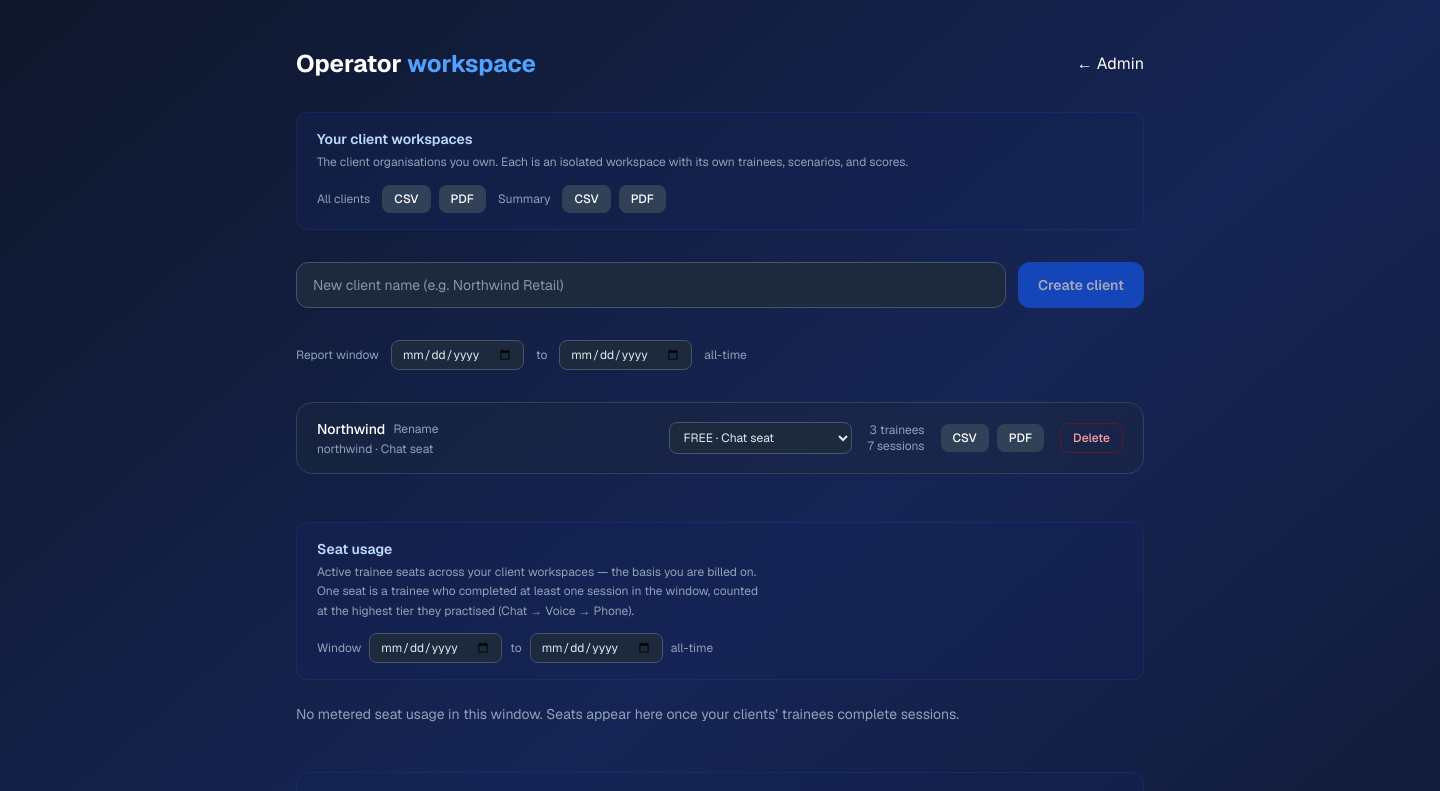
Scenario: Operator workspace — operator view › renames a client (PUT name) and reloads the list
Check: the text "Northwind" is shown, box [317,418,385,438]
Step 1. Click the button with aria-label "Rename Northwind" → (416, 428), box [393,420,438,436]
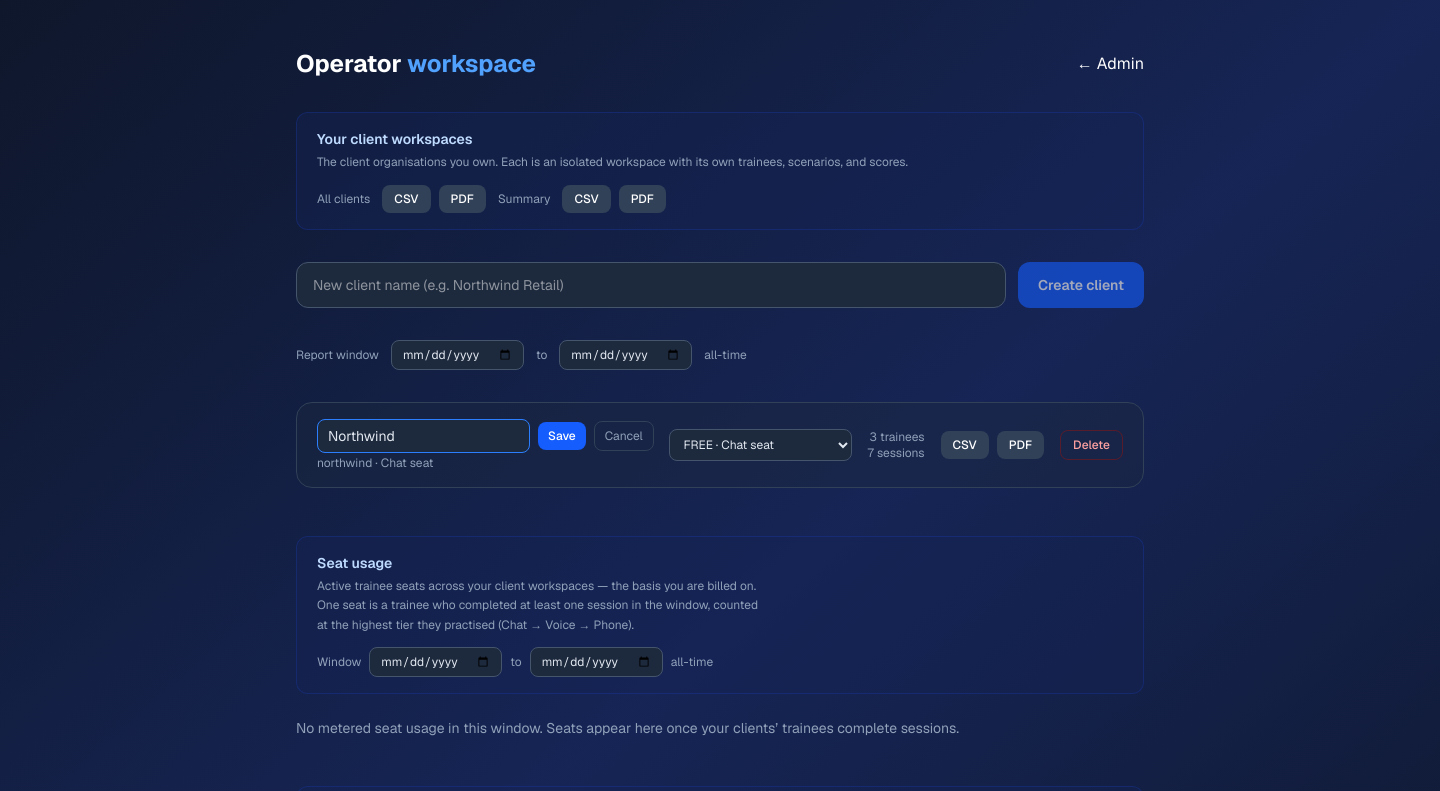
Step 2. Replace the text in the field named "New name for Northwind" with "Northwind Retail" → (424, 436), box [317,418,530,452]
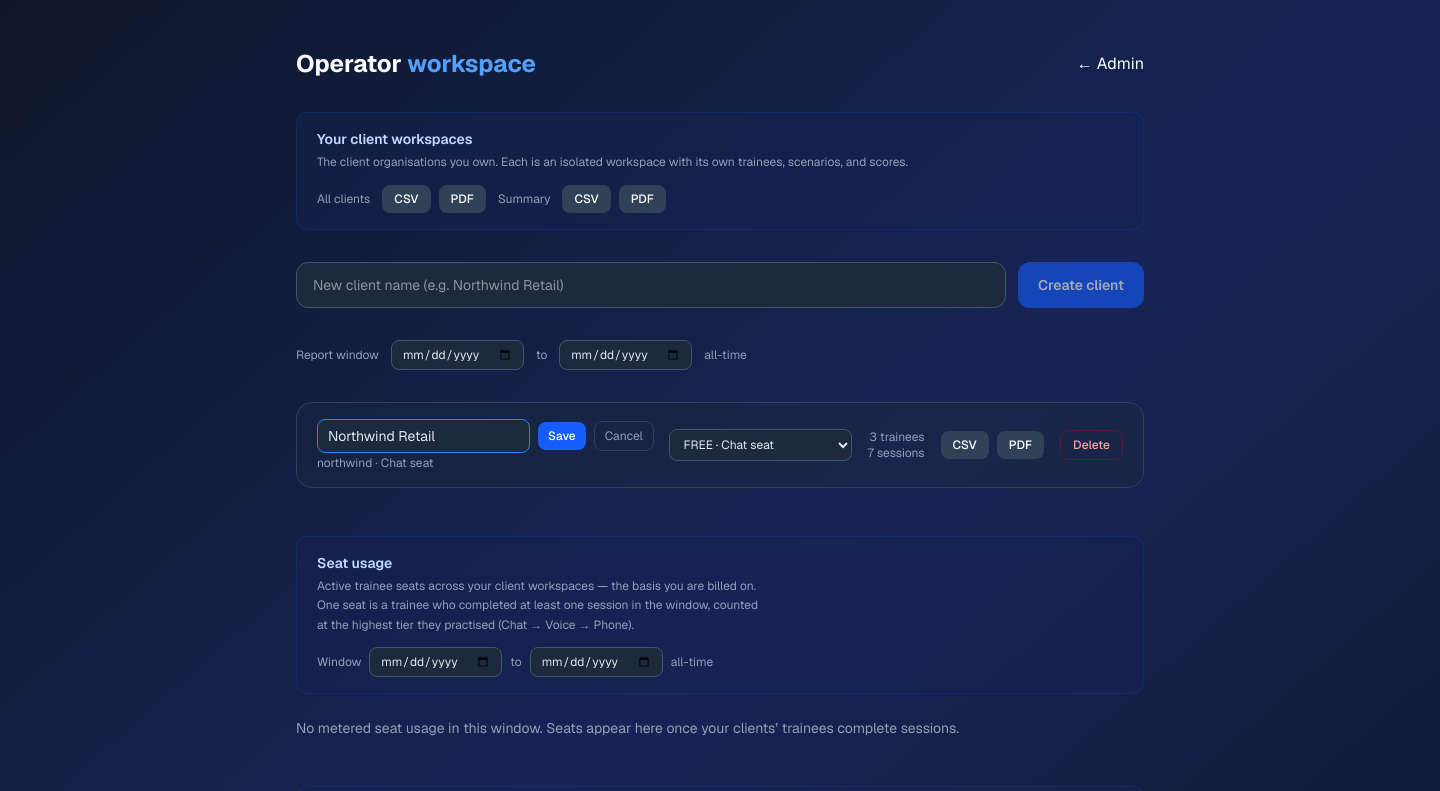
Step 3. Click the button "Save" → (562, 436), box [538,422,586,450]
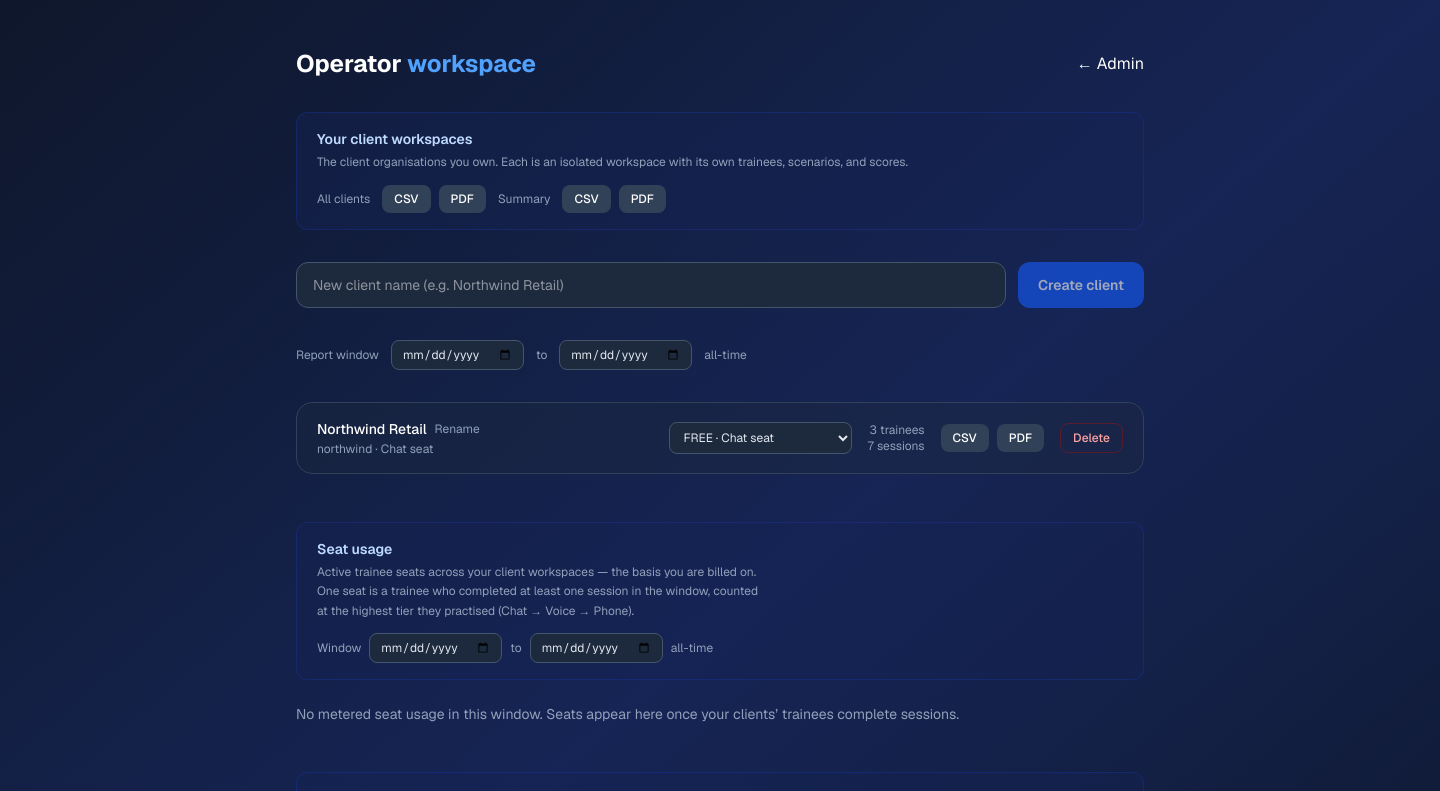
Check: the text "Northwind Retail" is shown, box [317,418,427,438]
